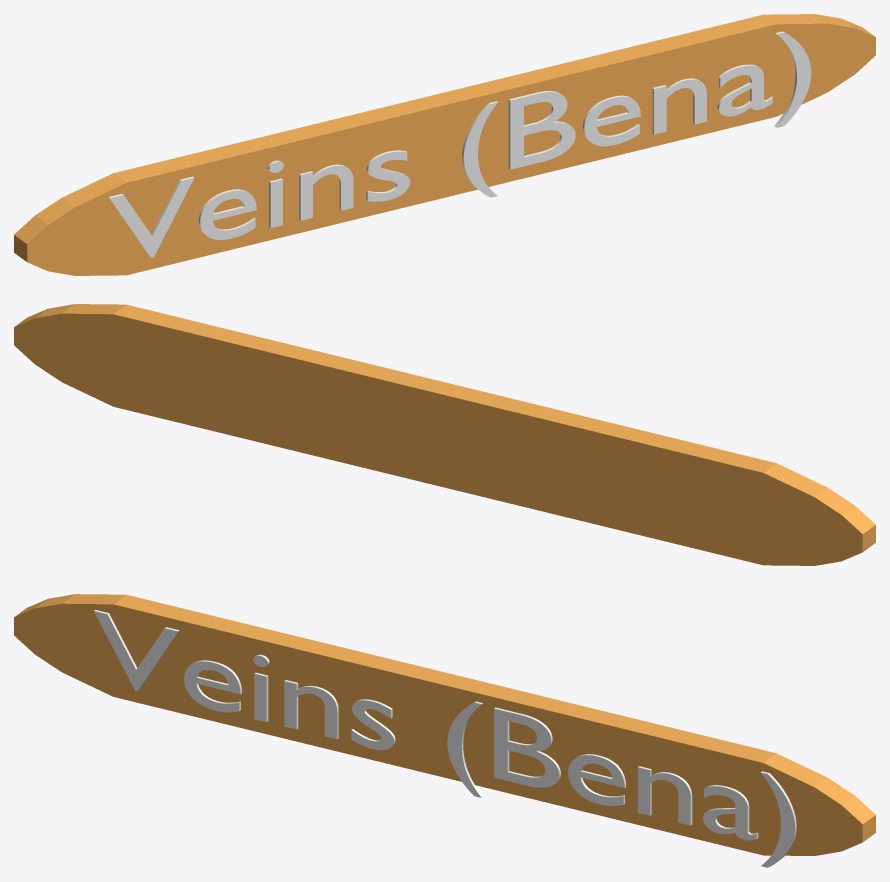
File: txtVeins.fbx
3 renders of one model, top to bottom at view 1: azimuth 30°, elevation 25°; view 2: azimuth 150°, elevation 25°; view 3: azimuth 330°, elevation 25°, orthographic.
Parts seen in each view (by area): view 1: TagContainer.089, Text.090; view 2: TagContainer.089; view 3: TagContainer.089, Text.090.
Boxes of the visible parts, bbox=[...] form: TagContainer.089: bbox=[14, 14, 875, 275]; Text.090: bbox=[108, 31, 811, 257]; TagContainer.089: bbox=[14, 304, 875, 565]; TagContainer.089: bbox=[14, 594, 875, 855]; Text.090: bbox=[94, 610, 796, 867].
Size of the model in its own units: 397 by 45.66 by 11.92.
